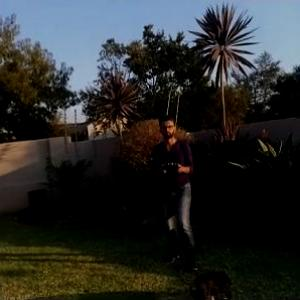follow: (150, 110, 204, 273)
null: (177, 264, 237, 299)
